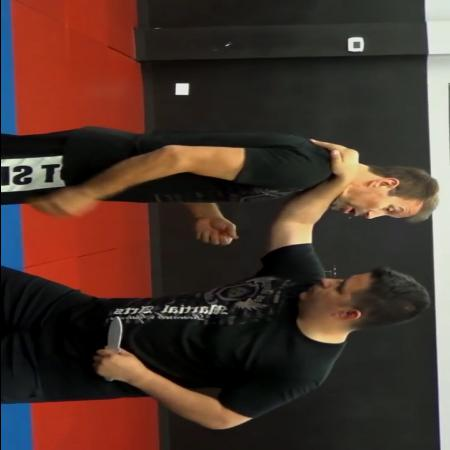long weapon: (92, 314, 130, 385)
